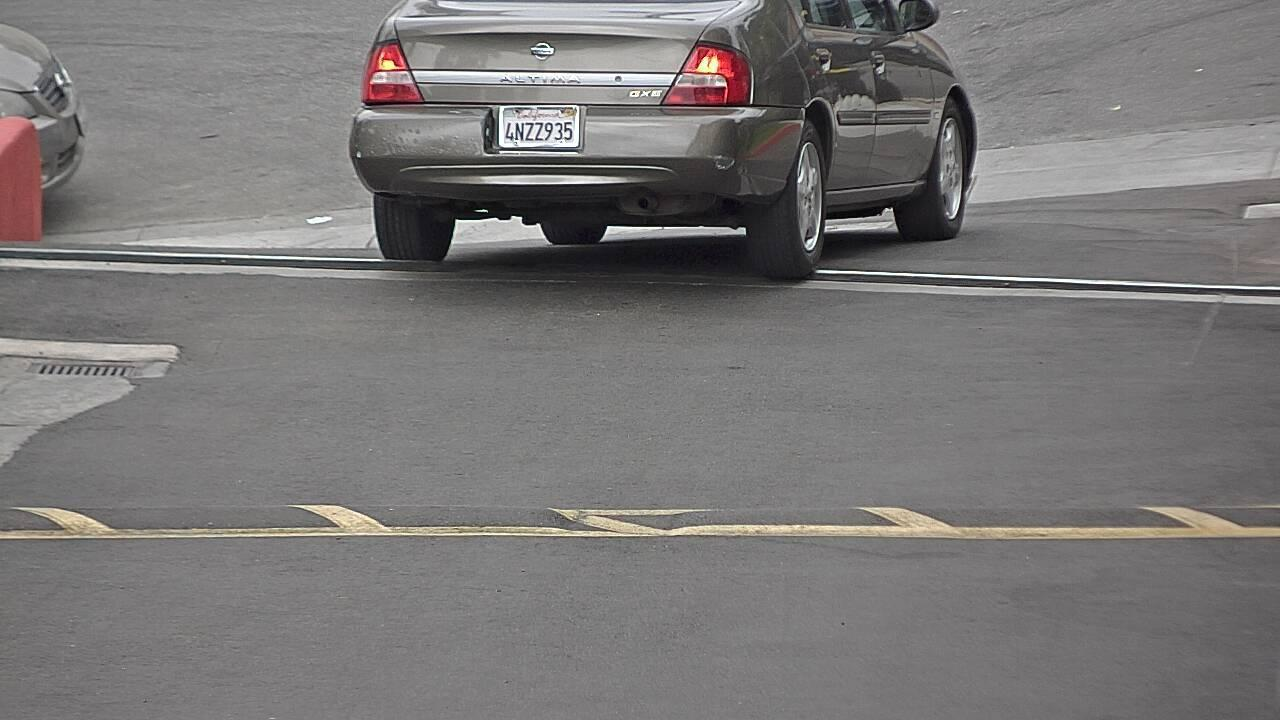placa de veiculo: (487, 102, 619, 191)
